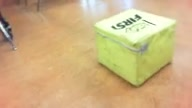cube: (94, 6, 177, 87)
